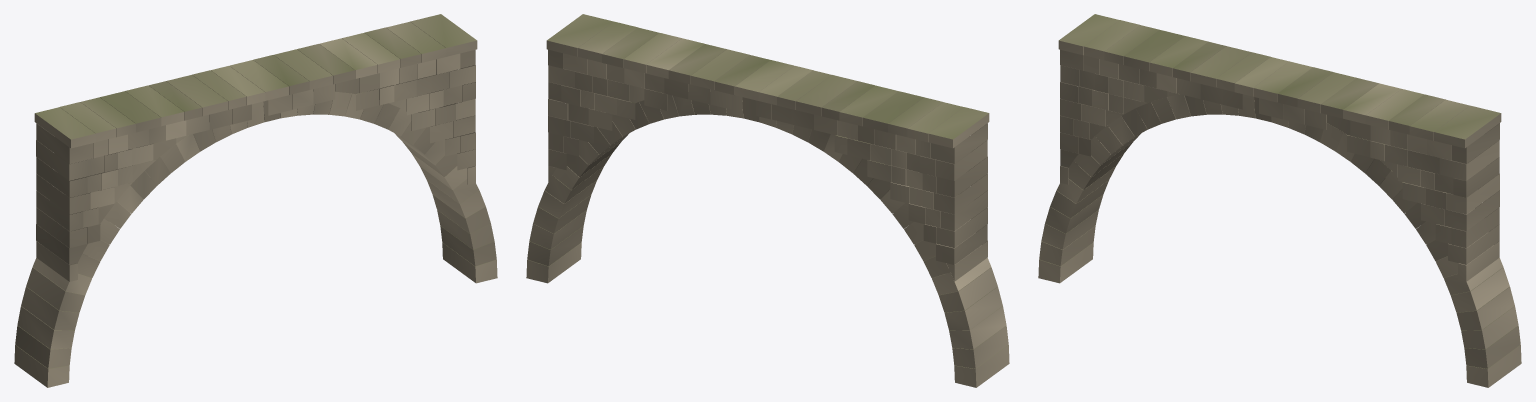
File: viaduct_arch_mid.glb
3 renders of one model, left to right at view 1: azimuth 30°, elevation 25°; view 2: azimuth 150°, elevation 25°; view 3: azimuth 330°, elevation 25°, orthographic.
Visible parts, largest first — view 1: viaduct_arch_mid; view 2: viaduct_arch_mid; view 3: viaduct_arch_mid.
Part boxes in pixels (x1,y1,x2,y2): viaduct_arch_mid: (14, 14, 497, 387); viaduct_arch_mid: (526, 14, 1009, 387); viaduct_arch_mid: (1038, 14, 1521, 387).
Bounding box in the file's own units: 62.43 × 32.37 × 8.75.
